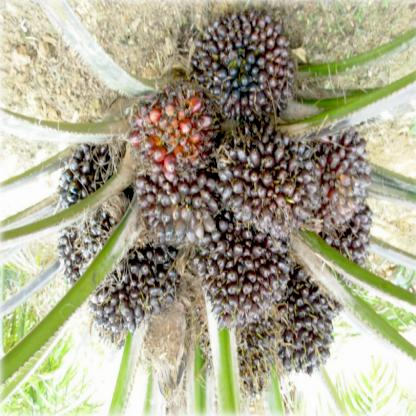1: (135, 94, 217, 238)
palm-oil: (194, 9, 296, 120), (56, 140, 127, 289), (221, 125, 317, 231), (199, 226, 288, 332), (88, 249, 182, 349), (275, 274, 336, 380), (313, 131, 371, 230), (326, 207, 377, 271), (235, 326, 274, 398)
